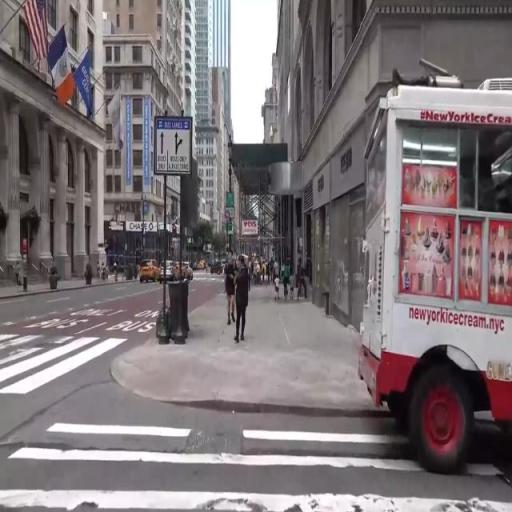person: (236, 254, 249, 348), (225, 248, 235, 325), (283, 264, 291, 303), (271, 257, 280, 284), (291, 274, 298, 302), (257, 262, 263, 289), (275, 277, 281, 301)
